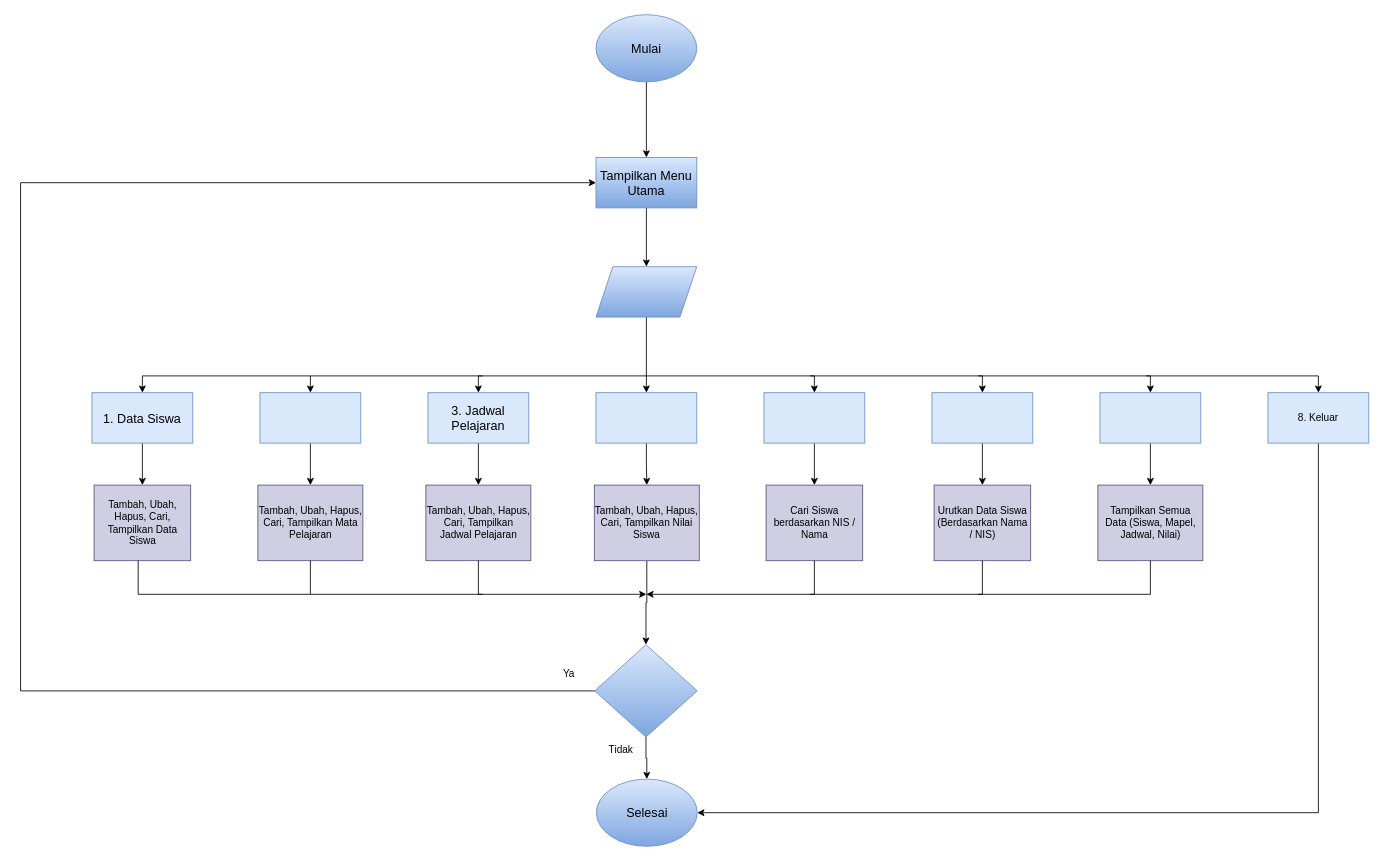
Image size: 1383x861. Some labels were removed from this diagram. The box of each missing label's shape, as (x1, y1, x2, y2) in pixels:
2. Mata Pelajaran: (259, 392, 361, 443)
4. Nilai Siswa: (595, 392, 697, 443)
5. Cari Siswa: (763, 392, 865, 443)
6. Urutkan Data: (931, 392, 1033, 443)
7. Tampilkan Semua Data: (1099, 392, 1201, 443)
Ingin Kembali Ke Menu Utama?: (594, 644, 697, 737)
Pilih Menu: (595, 266, 697, 317)
